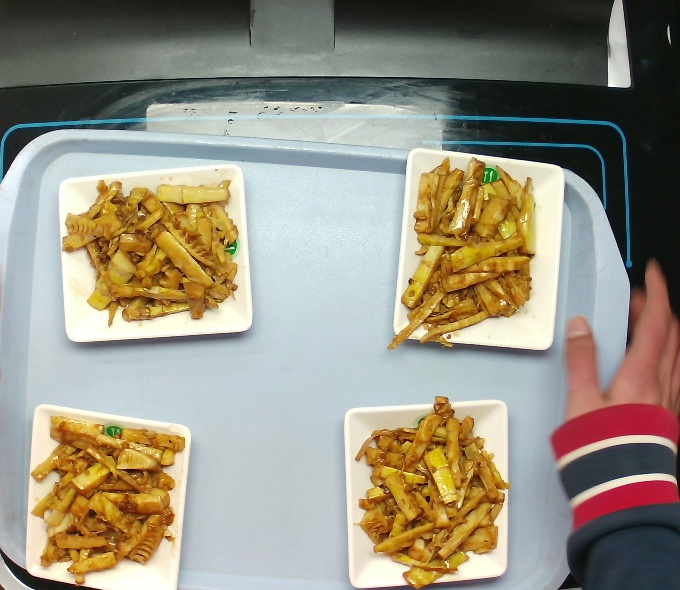wcq-QingChaoChunSun: (384, 145, 562, 356), (350, 392, 511, 584), (58, 178, 243, 323), (26, 413, 187, 579)
